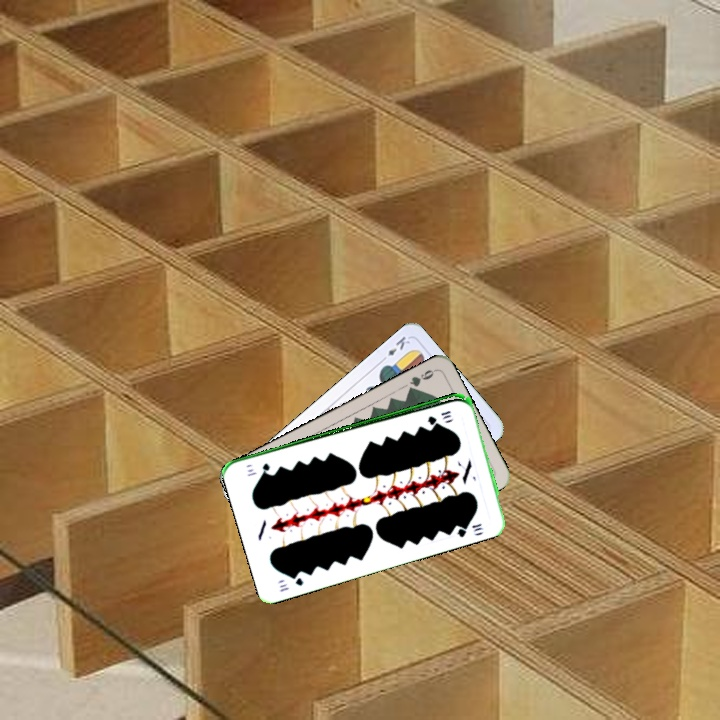EK: (377, 332, 413, 365)
G10: (276, 570, 306, 594), (423, 407, 453, 425)
G9: (404, 365, 438, 395)
